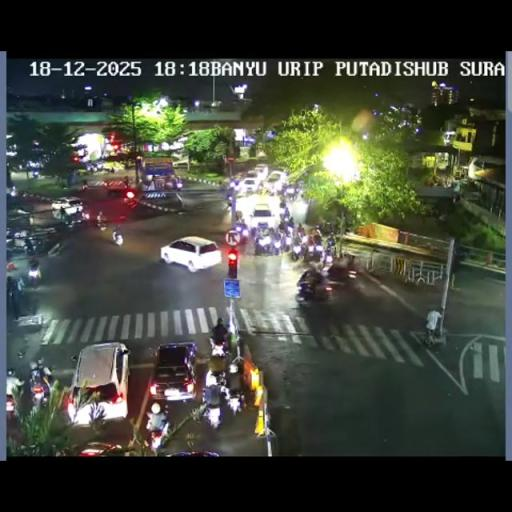Car: (66, 342, 130, 424), (148, 342, 198, 402), (158, 235, 221, 272), (250, 202, 276, 230), (70, 441, 122, 455), (52, 197, 86, 214), (265, 170, 286, 193), (238, 177, 260, 193), (253, 164, 269, 178)
Motorcycle: (145, 404, 169, 450), (29, 358, 53, 402), (208, 338, 230, 376), (4, 373, 22, 416), (421, 314, 444, 347), (201, 396, 223, 429), (311, 278, 334, 302), (226, 386, 244, 416), (211, 318, 228, 346), (254, 228, 272, 254), (270, 228, 284, 254), (233, 220, 249, 242), (28, 264, 42, 288), (344, 254, 358, 278), (315, 220, 336, 235), (310, 239, 324, 261), (204, 367, 218, 387), (317, 259, 330, 279), (290, 240, 302, 260), (218, 382, 230, 401), (123, 188, 135, 206), (24, 241, 38, 255), (324, 246, 334, 264), (112, 230, 123, 246), (95, 216, 107, 230), (64, 213, 76, 227), (284, 186, 295, 201), (284, 222, 294, 238), (80, 209, 90, 225), (164, 174, 174, 190), (6, 242, 14, 261), (280, 208, 290, 223), (222, 198, 232, 212), (296, 224, 306, 238), (220, 181, 231, 193), (234, 210, 244, 223), (296, 186, 304, 201), (228, 362, 238, 374), (58, 209, 66, 220), (88, 164, 94, 174), (176, 180, 182, 190), (107, 166, 114, 174), (32, 170, 39, 178), (81, 183, 87, 192), (124, 180, 130, 188), (10, 189, 16, 197)
